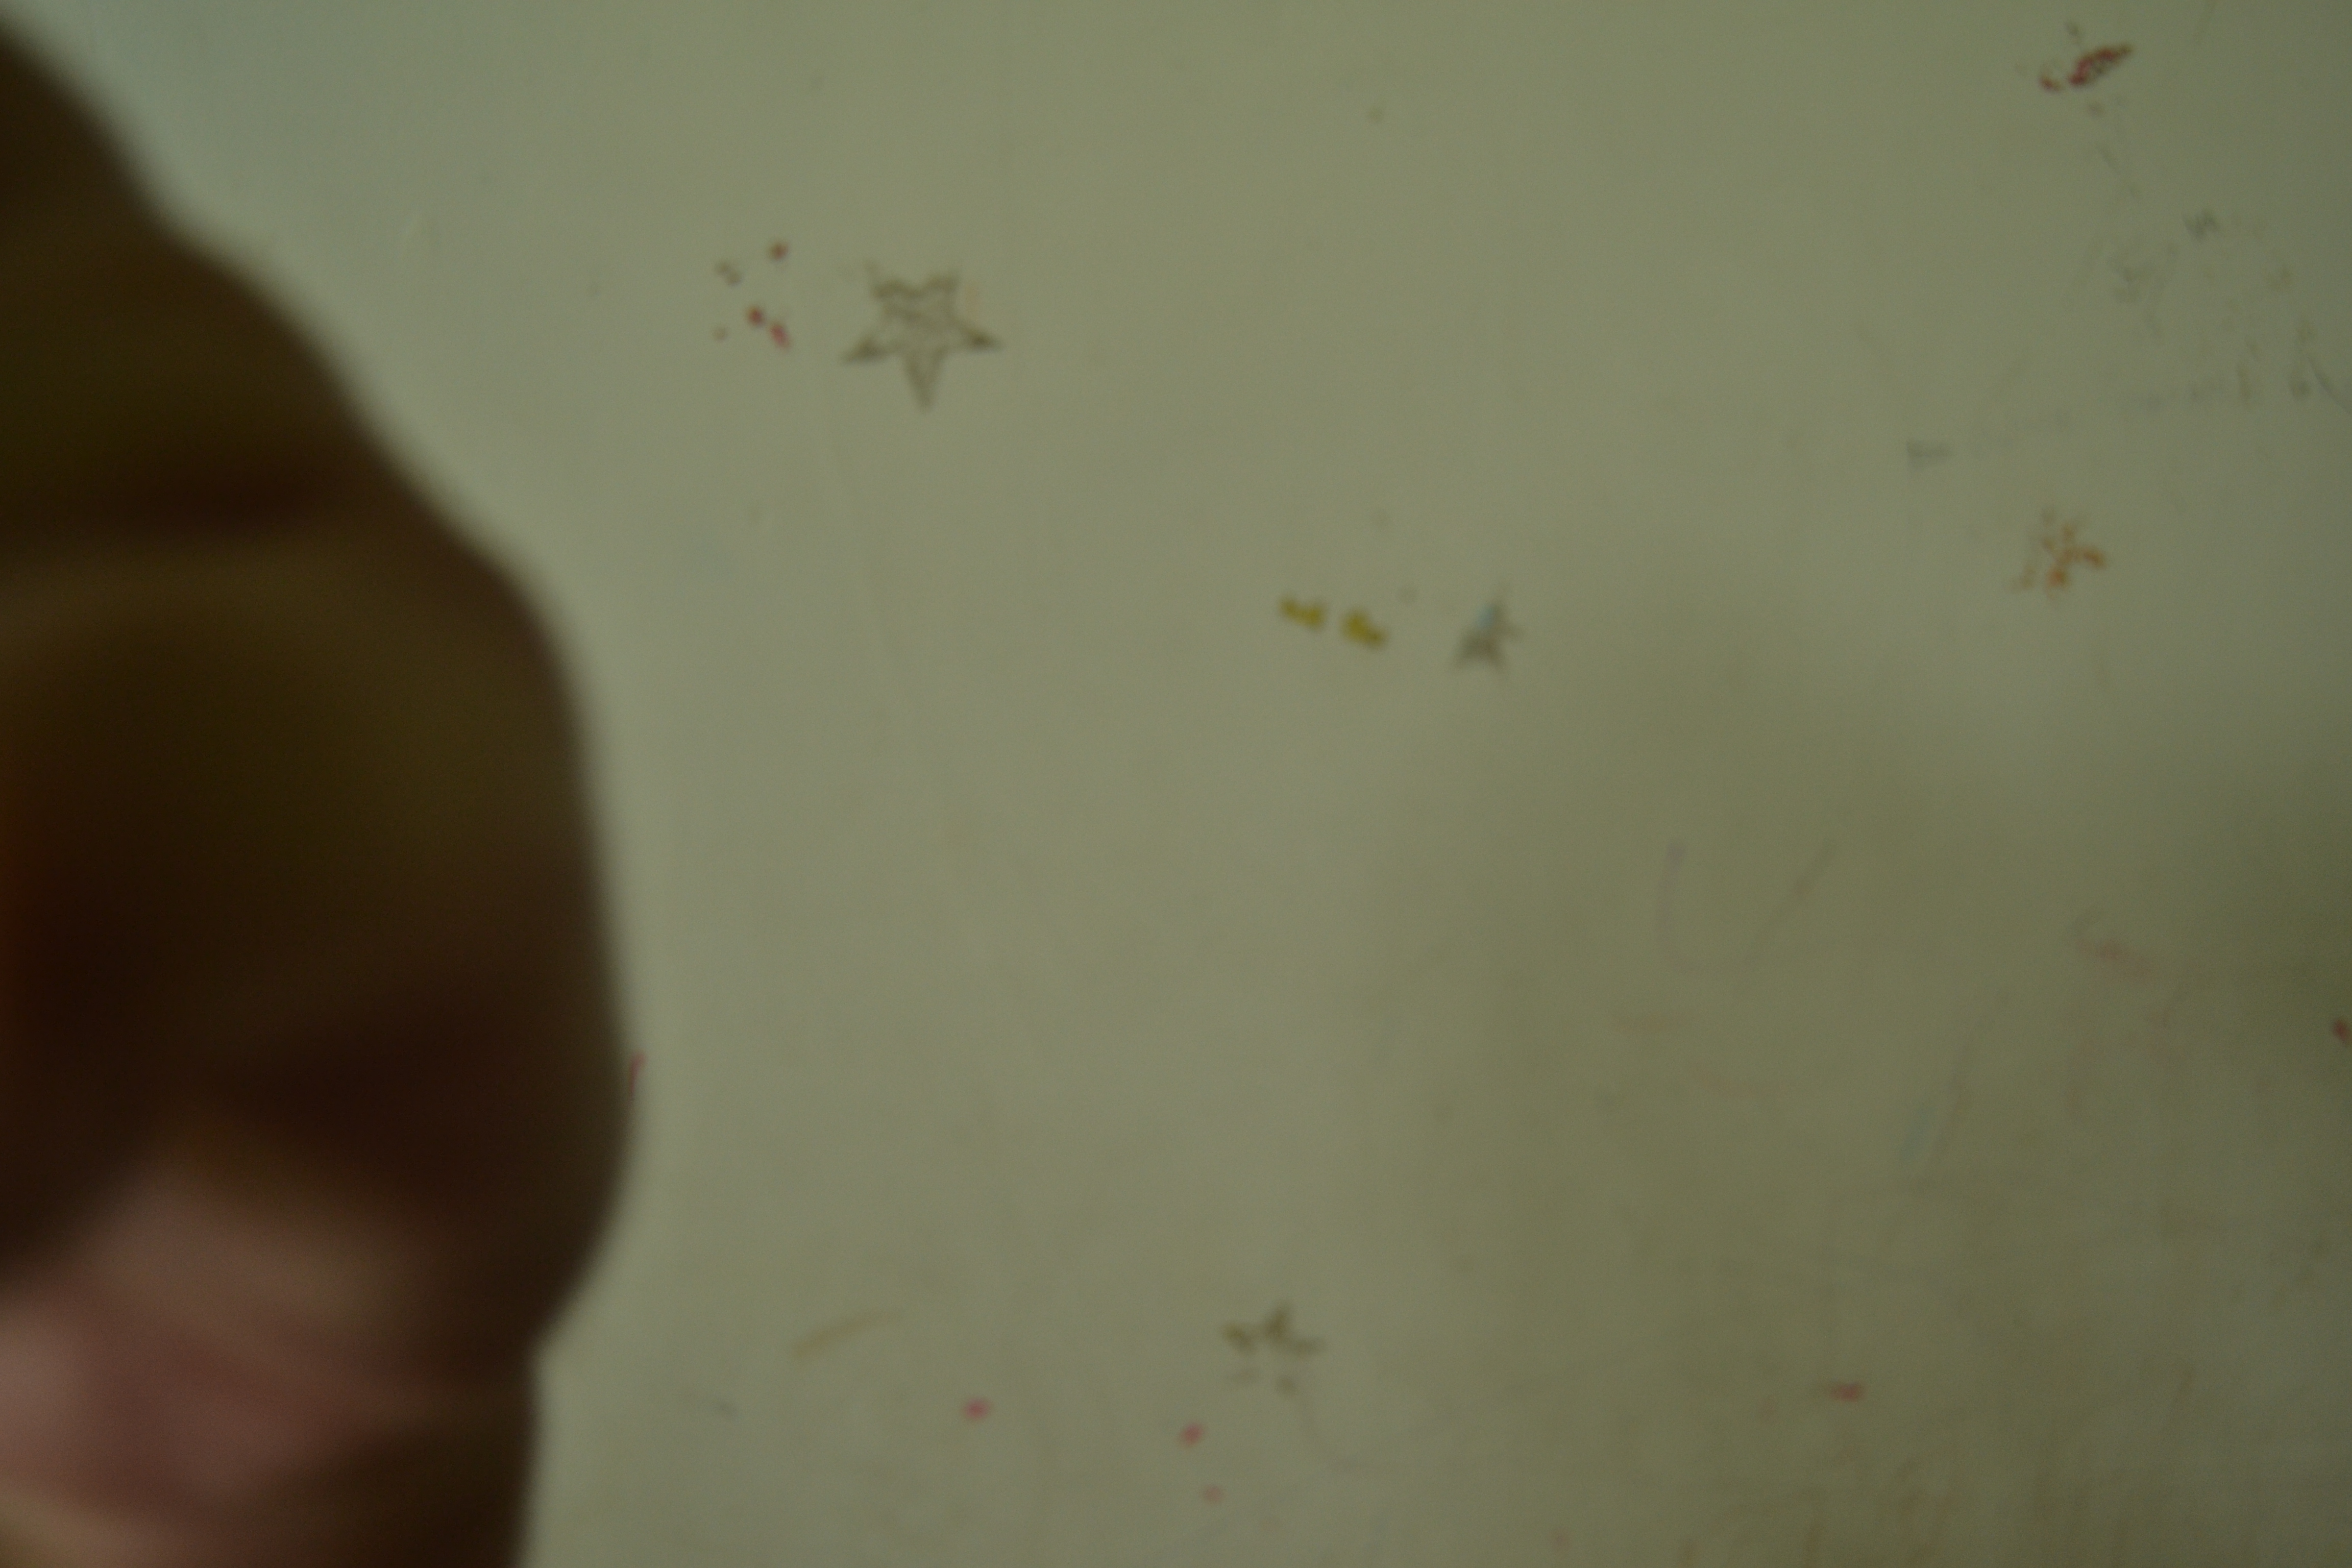click: (24, 33, 1022, 1526)
